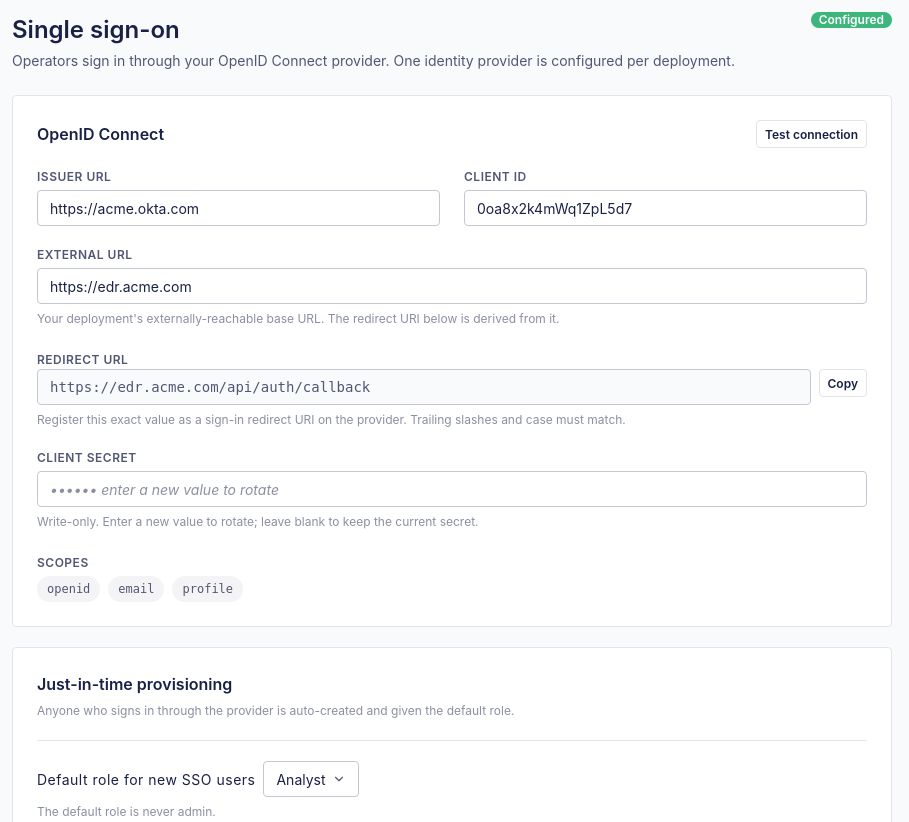
Scenario: SSOSettings › derives the redirect URL live as the external URL changes
Type "https://edr.example.org/" into the field labelled "External URL".
click(452, 286); type("https://edr.example.org/")  # box [37, 268, 867, 304]
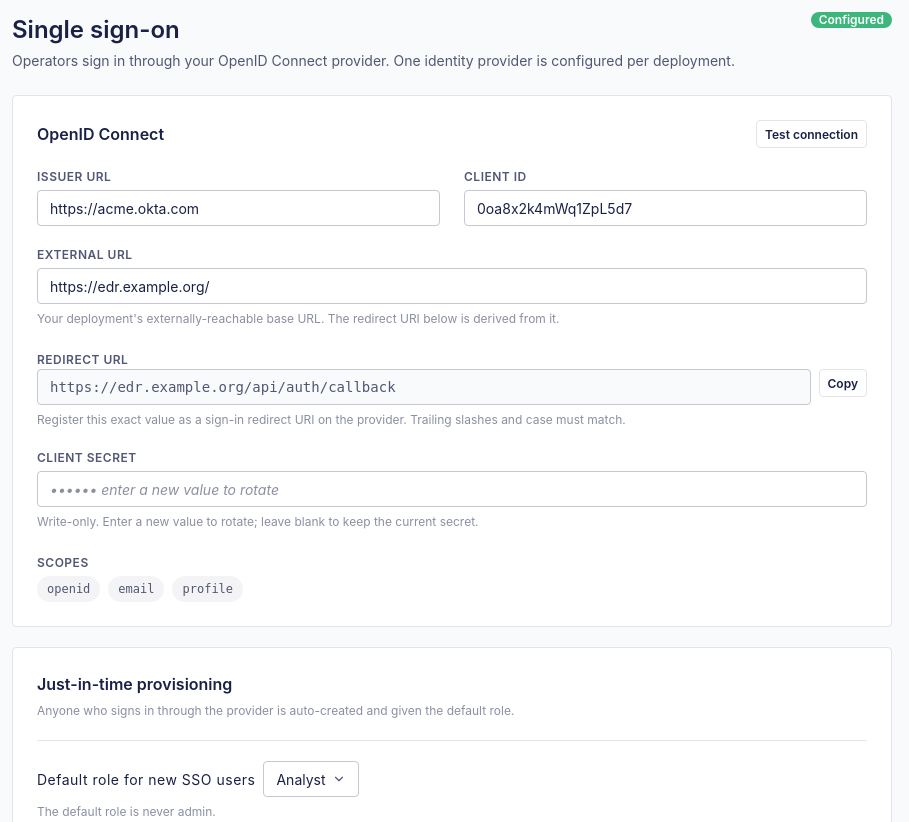
Check: the field named "Redirect URL" holds "https://edr.example.org/api/auth/callback", box [37, 369, 810, 405]
